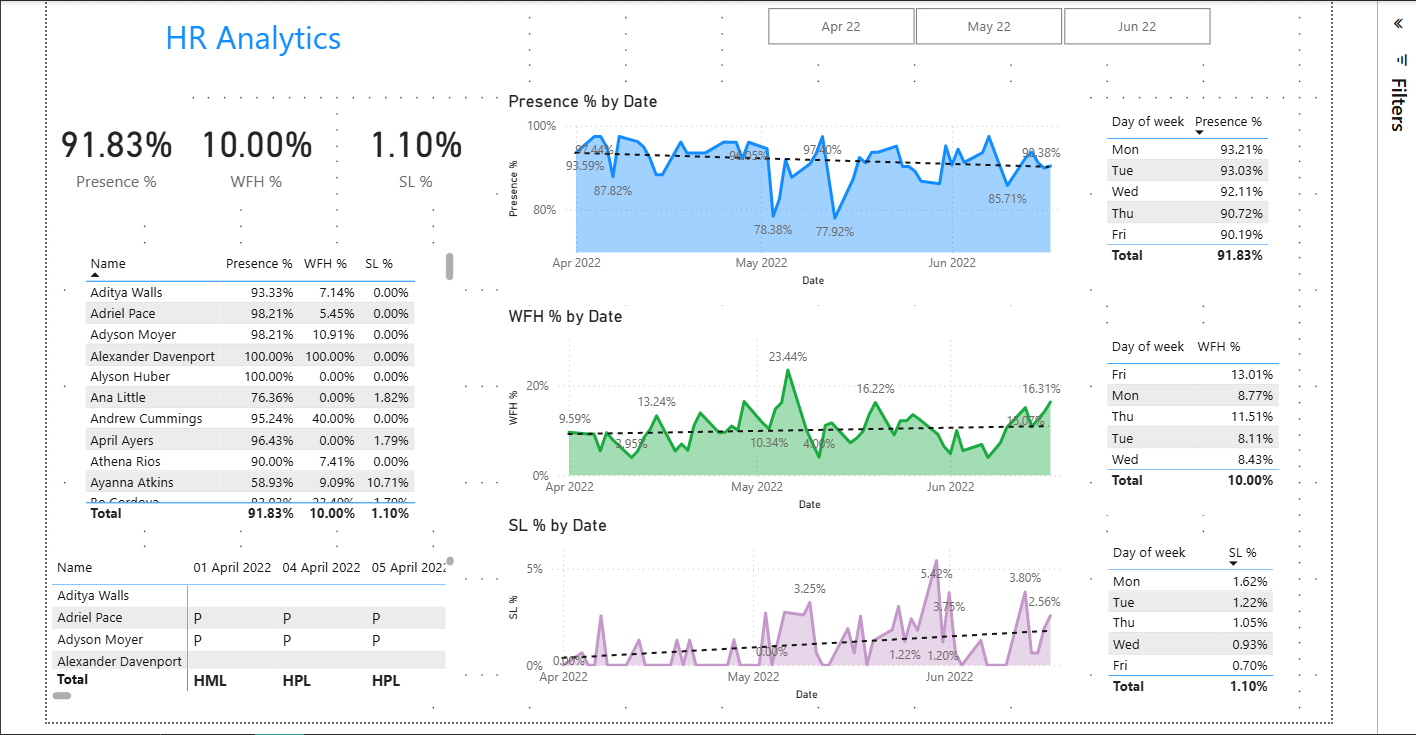

Layout of this report page (visuals, bound fields, positions):
{"tool":"powerbi","page":{"name":"Page 1","canvas":[1280,720],"ordinal":0},"visuals":[{"type":"card","fields":{"Values":["Measure.Presence %"]},"box":[0,90,138.8,122.5],"z":0},{"type":"slicer","fields":{"Values":["FinalData.Month"]},"box":[693.8,0,491.2,50],"z":1000},{"type":"card","fields":{"Values":["Measure.WFH %"]},"box":[138.8,98.8,141.2,105],"z":2000},{"type":"card","fields":{"Values":["Measure.SL %"]},"box":[292.5,98.8,150,105],"z":3000},{"type":"tableEx","fields":{"Values":["FinalData.Name","Measure.Presence %","Measure.WFH %","Measure.SL %"]},"box":[32.5,245,378.8,280],"z":4000},{"type":"textbox","box":[0,570,350,150],"z":5000},{"type":"textbox","box":[0,8.8,411.2,81.2],"z":6000},{"type":"pivotTable","fields":{"Rows":["FinalData.Name"],"Values":["FinalData.Value"],"Columns":["FinalData.Date"]},"box":[0,548.8,411.2,153.8],"z":7000},{"type":"areaChart","fields":{"Y":["Measure.Presence %"],"Category":["FinalData.Date"]},"box":[455,90,575,200],"z":8000},{"type":"areaChart","fields":{"Y":["Measure.WFH %"],"Category":["FinalData.Date"]},"box":[455,303.8,575,208.8],"z":9000},{"type":"areaChart","fields":{"Y":["Measure.SL %"],"Category":["FinalData.Date"]},"box":[455,512.5,575,190],"z":9001},{"type":"tableEx","fields":{"Values":["FinalData.Day of week","Measure.Presence %"]},"box":[1051.2,103.8,187.5,186.2],"z":9002},{"type":"tableEx","fields":{"Values":["FinalData.Day of week","Measure.WFH %"]},"box":[1051.2,327.5,187.5,185],"z":9003},{"type":"tableEx","fields":{"Values":["FinalData.Day of week","Measure.SL %"]},"box":[1052.5,533.8,186.2,186.2],"z":9004}]}

Visuals, with their boxes on the page's 1280x720 design canvas (x1, y1, x2, y2). These are canvas units, not pixel positions in the 1416x735 screenshot, which may show the page scaled, cropped or inside an application window:
card - Measure.Presence %: left=0, top=90, right=139, bottom=212
slicer - FinalData.Month: left=694, top=0, right=1185, bottom=50
card - Measure.WFH %: left=139, top=99, right=280, bottom=204
card - Measure.SL %: left=292, top=99, right=442, bottom=204
tableEx - FinalData.Name x Measure.Presence %: left=32, top=245, right=411, bottom=525
textbox: left=0, top=570, right=350, bottom=720
textbox: left=0, top=9, right=411, bottom=90
pivotTable - FinalData.Name x FinalData.Value: left=0, top=549, right=411, bottom=703
areaChart - Measure.Presence % x FinalData.Date: left=455, top=90, right=1030, bottom=290
areaChart - Measure.WFH % x FinalData.Date: left=455, top=304, right=1030, bottom=513
areaChart - Measure.SL % x FinalData.Date: left=455, top=512, right=1030, bottom=702
tableEx - FinalData.Day of week x Measure.Presence %: left=1051, top=104, right=1239, bottom=290
tableEx - FinalData.Day of week x Measure.WFH %: left=1051, top=328, right=1239, bottom=512
tableEx - FinalData.Day of week x Measure.SL %: left=1052, top=534, right=1239, bottom=720
